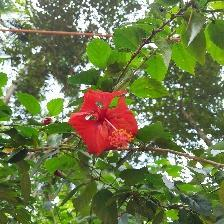hibiscus: (69, 85, 144, 157)
